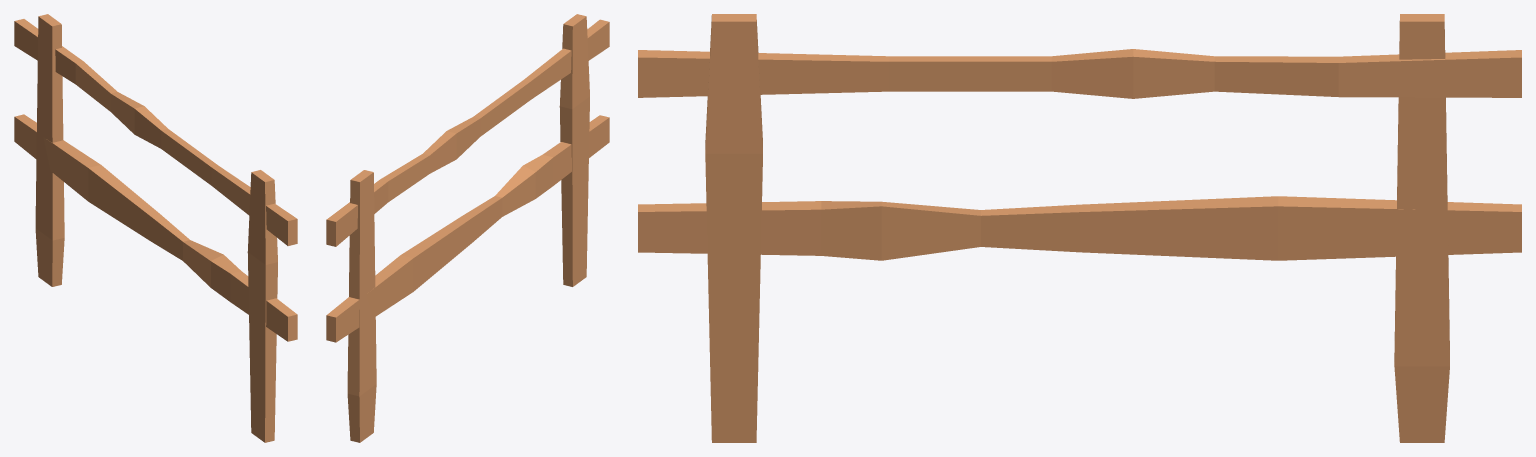
File: fence.fbx
3 renders of one model, left to right at view 1: azimuth 30°, elevation 25°; view 2: azimuth 150°, elevation 25°; view 3: azimuth 270°, elevation 25°, orthographic. The views are drawn at different scales.
Visible parts, largest first — view 1: Cube; view 2: Cube; view 3: Cube.
Part boxes in pixels (x1,y1,x2,y2): Cube: [14, 14, 297, 442]; Cube: [326, 14, 609, 442]; Cube: [638, 14, 1521, 442].
Bounding box in the file's own units: 14.91 × 260 × 495.
